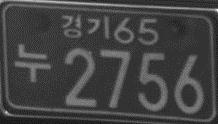2: (63, 46, 98, 109)
5: (137, 51, 168, 112), (137, 17, 159, 45)
6: (173, 54, 204, 115), (112, 16, 134, 44)
7: (99, 48, 131, 108)
경기_O: (60, 13, 110, 39)
누: (14, 43, 50, 83)
